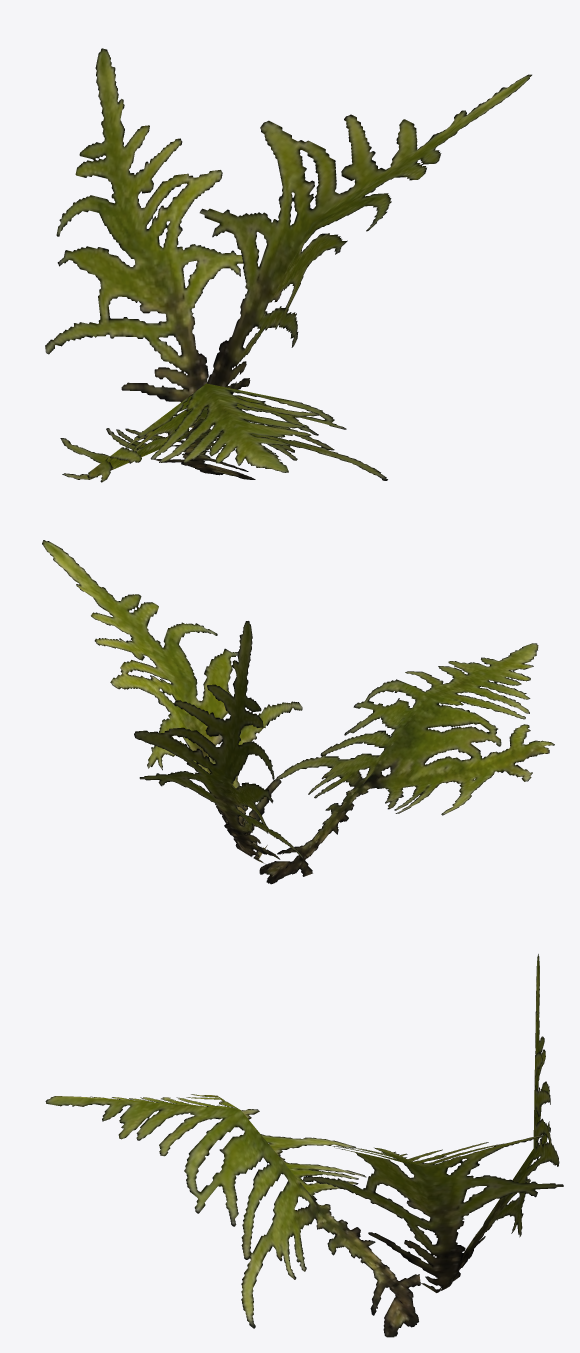
File: moss-shoots-01.glb
3 views of the same model, one above another, from view 1: azimuth 30°, elevation 25°; view 2: azimuth 150°, elevation 25°; view 3: azimuth 270°, elevation 25° (orthographic). The views are drawn at different scales.
Parts seen in each view (by area): view 1: moss-shoot-0, moss-shoot-1, moss-shoot-2; view 2: moss-shoot-2, moss-shoot-1, moss-shoot-0; view 3: moss-shoot-2, moss-shoot-1, moss-shoot-0.
Boxes of the visible parts, bbox=[...] form: moss-shoot-0: bbox=[45, 48, 243, 427]; moss-shoot-1: bbox=[199, 74, 531, 393]; moss-shoot-2: bbox=[60, 383, 387, 482]; moss-shoot-2: bbox=[259, 643, 554, 884]; moss-shoot-1: bbox=[42, 540, 302, 860]; moss-shoot-0: bbox=[134, 621, 302, 863]; moss-shoot-2: bbox=[45, 1094, 420, 1337]; moss-shoot-1: bbox=[303, 1134, 563, 1292]; moss-shoot-0: bbox=[437, 954, 559, 1292].
Size of the model in its own units: 0.0284 by 0.0197 by 0.0251.
Materials: 1 (1 with a texture image).
